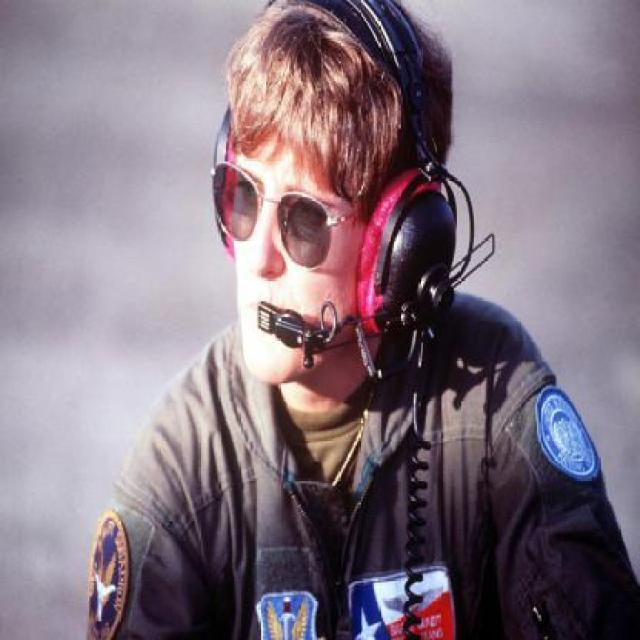earphone: (313, 0, 502, 365)
